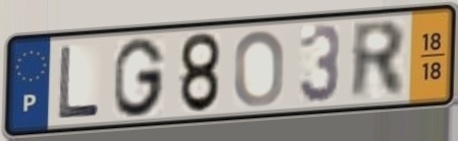3: (296, 21, 342, 107)
8: (178, 30, 223, 115)
G: (112, 35, 168, 120)
L: (56, 44, 103, 121)
O: (232, 27, 287, 109)
R: (349, 18, 408, 104)
